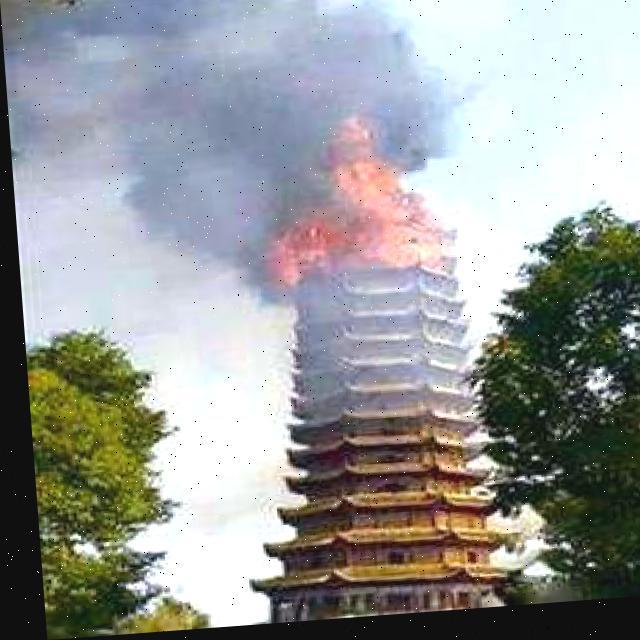Fire: (241, 117, 455, 290)
